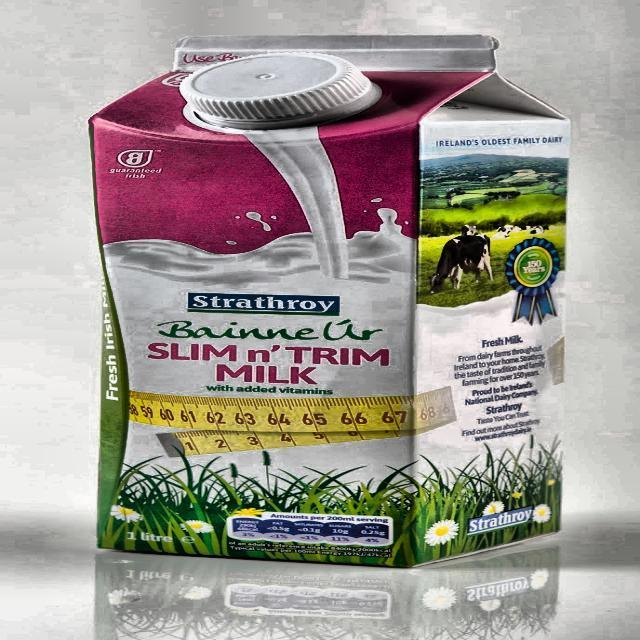cardboard: (88, 34, 568, 567)
